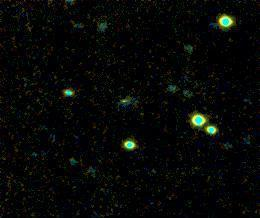star: (110, 85, 140, 115)
